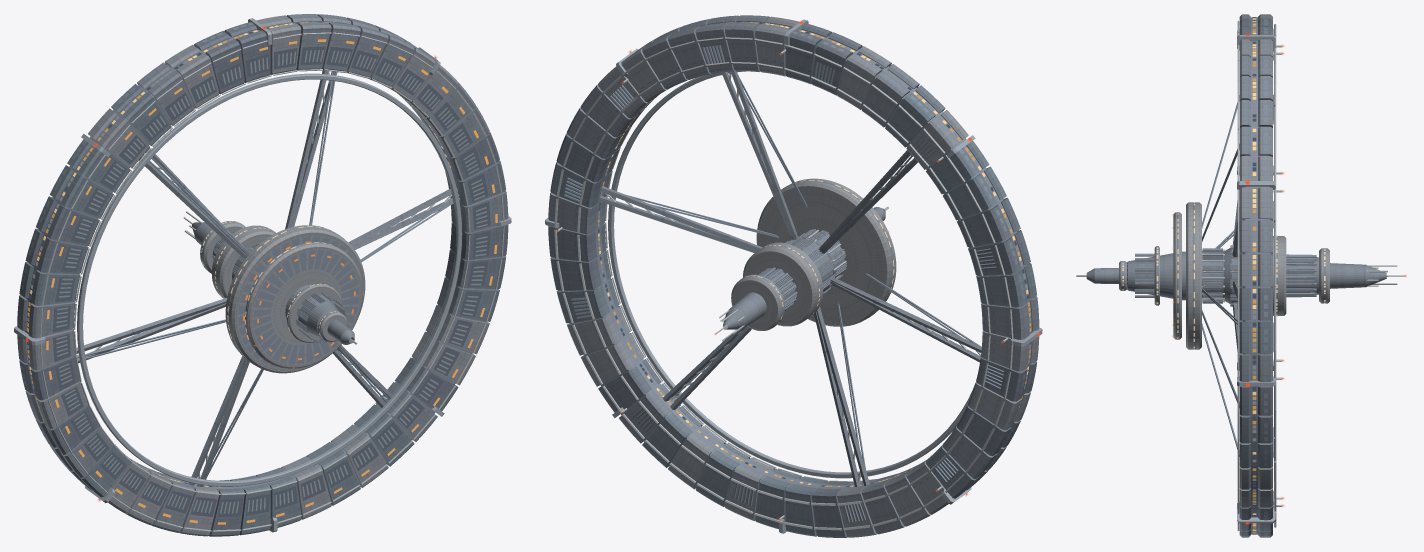
Rendered from orbital-habitat.glb.
The picture shows the model from 3 angles, left to right: view 1: azimuth 30°, elevation 25°; view 2: azimuth 150°, elevation 25°; view 3: azimuth 270°, elevation 25°; orthographic projection. The views are drawn at different scales.
Visible parts, largest first — view 1: Rotor, Spindle; view 2: Rotor, Spindle; view 3: Rotor, Spindle.
Boxes of the visible parts, x1,y1,x2,y2 form: Rotor: (14,14,511,536); Spindle: (183,211,365,373); Rotor: (545,15,1042,537); Spindle: (714,178,896,341); Rotor: (1202,14,1284,537); Spindle: (1076,202,1406,349).
Bounding box in the file's own units: 2.09 × 2.09 × 1.29.
Materials: 5 (2 with a texture image).
